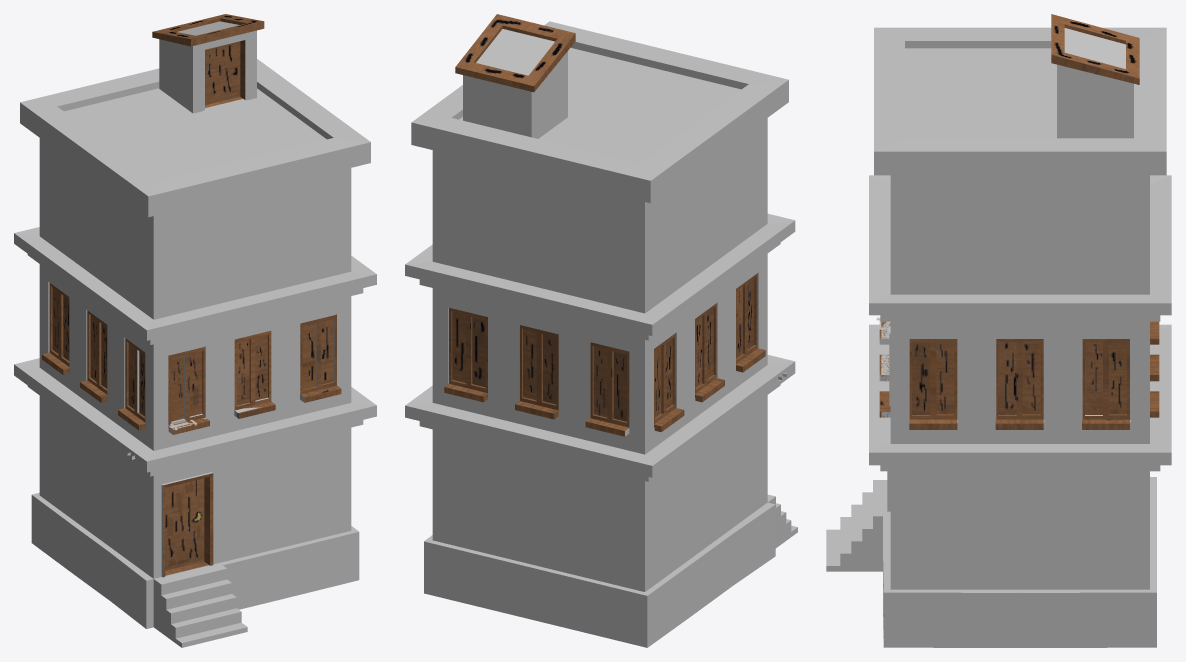
Rendered from type1building_2.fbx.
The picture shows the model from 3 angles, left to right: view 1: azimuth 30°, elevation 25°; view 2: azimuth 150°, elevation 25°; view 3: azimuth 270°, elevation 25°; orthographic projection. The views are drawn at different scales.
Visible parts, largest first — view 1: AP; view 2: AP; view 3: AP.
Boxes of the visible parts, x1,y1,x2,y2 form: AP: (14,14,376,647); AP: (405,14,797,647); AP: (826,14,1171,647).
Size of the model in its own units: 1082 by 2259 by 1216.
